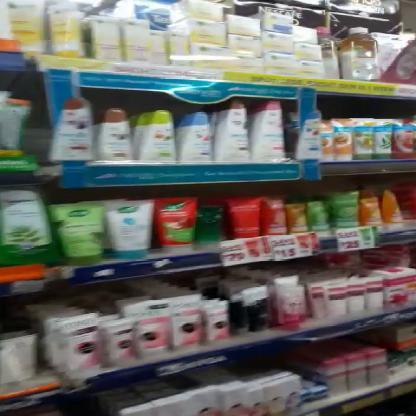Everyuth Naturals Body Lotion Nourishing Cocoa 200ml: (217, 100, 253, 163), (99, 106, 129, 160)
Everyuth Naturals Body Lotion Rejuvenating Flora 200ml: (252, 100, 284, 159)
Everyuth Naturals Body Lotion Soothing Citrus 200ml: (142, 110, 177, 160)
Everyuth Naturals Body Lotion Sun Care Berries SPF 15 200ml: (180, 108, 216, 162)
